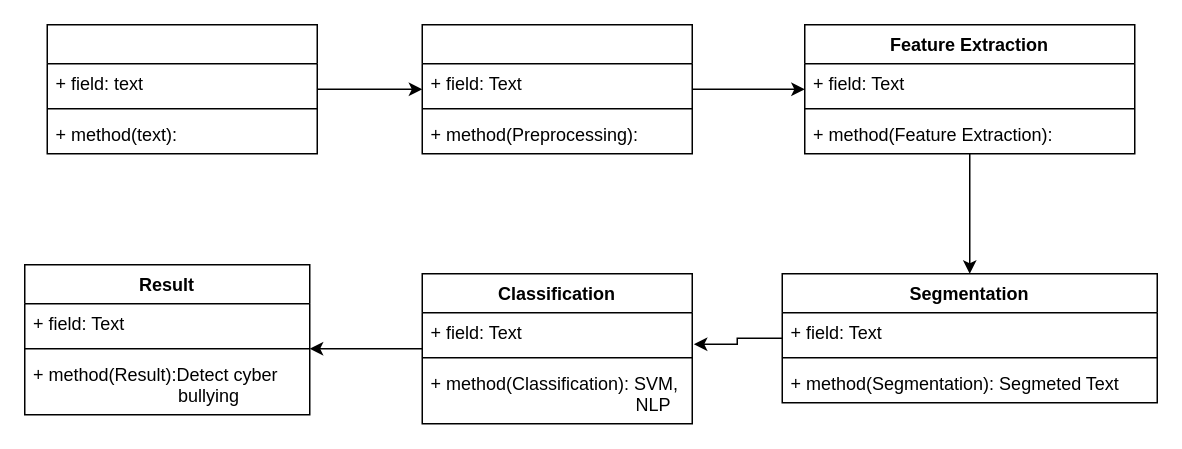
Some shapes in this 1182 by 449 pixel diagram are drawn without their labels. Each missing label, with the box of its shape:
Input as a text /audio: (46, 23, 317, 154)
Preprosessing: (421, 23, 692, 154)
